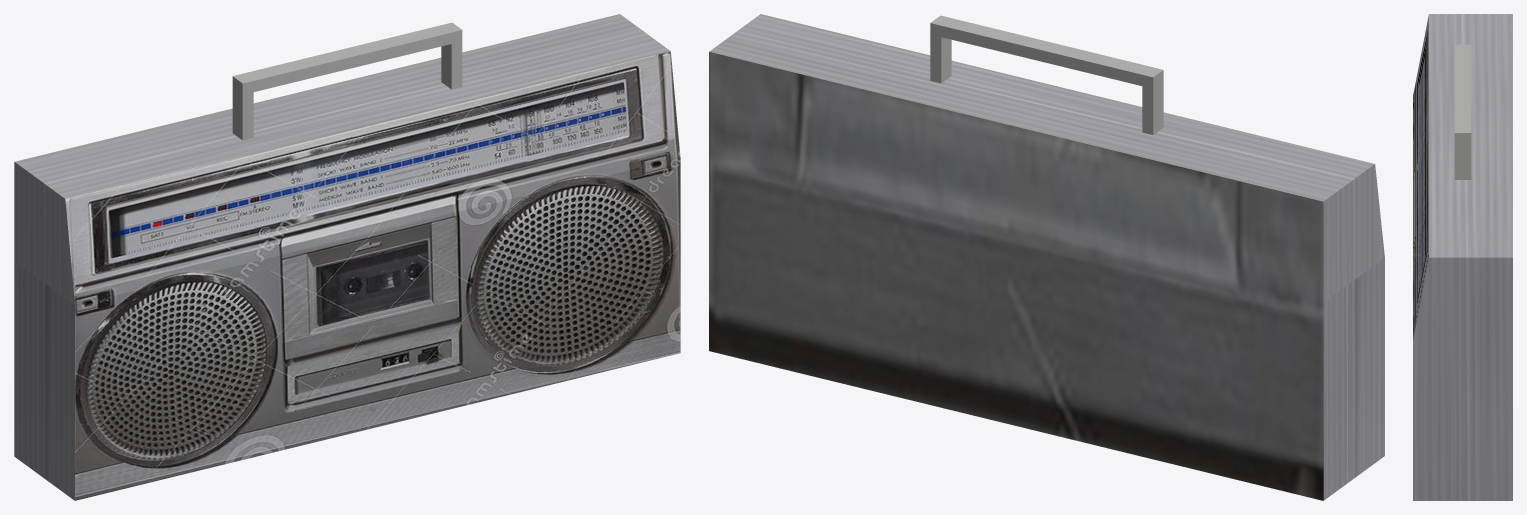
File: Speaker.fbx
3 renders of one model, left to right at view 1: azimuth 30°, elevation 25°; view 2: azimuth 150°, elevation 25°; view 3: azimuth 270°, elevation 25°, orthographic. The views are drawn at different scales.
Parts seen in each view (by area): view 1: Speaker; view 2: Speaker; view 3: Speaker.
Part boxes in pixels (x1,y1,x2,y2): Speaker: [14, 14, 680, 500]; Speaker: [709, 14, 1384, 500]; Speaker: [1413, 14, 1512, 500].
Bounding box in the file's own units: 35.43 × 19.67 × 6.14.
Materials: 1 (1 with a texture image).
